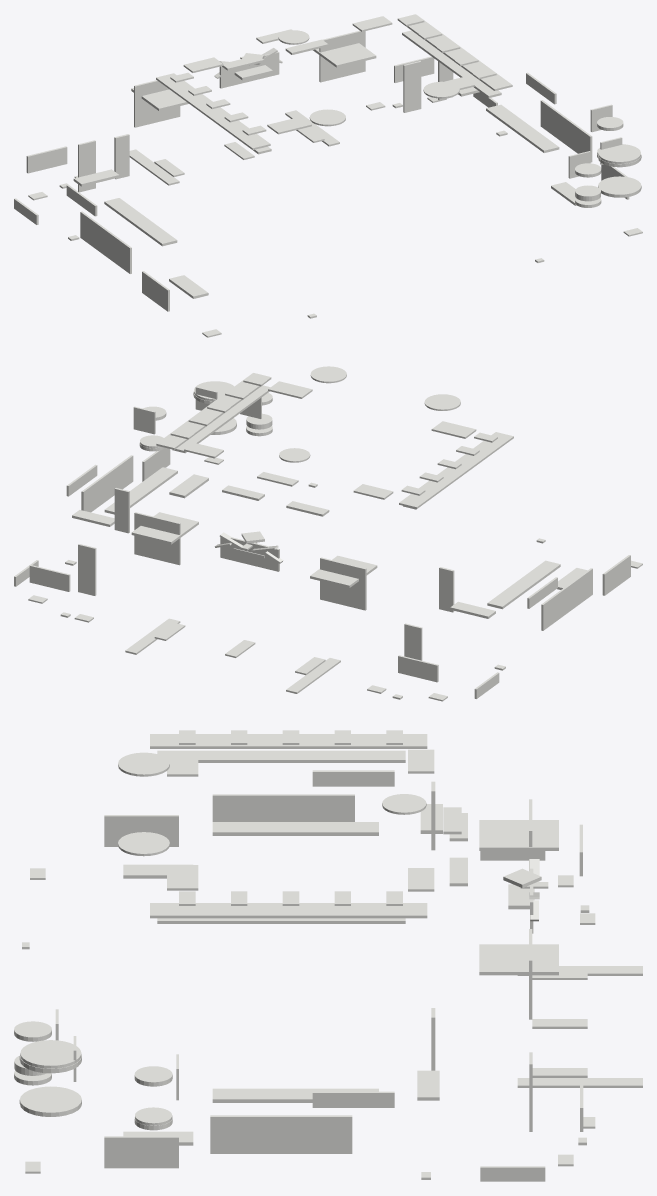
Rendered from Bastion_WarFactoryCMV2_TeamColorPanels.obj.
3 views of the same model, one above another, from view 1: azimuth 30°, elevation 25°; view 2: azimuth 150°, elevation 25°; view 3: azimuth 270°, elevation 25° (orthographic). The views are drawn at different scales.
Visible parts, largest first — view 1: v2_roof_long_white_spine_41, v2_left_side_long_mid_plate_39, v2_right_side_long_mid_plate_37, v2_roof_long_white_spine_42, v2_front_right_white_shoulder_31, v2_front_left_white_shoulder_30, side_long_team_plate_12, side_long_team_plate_10, long_roof_team_panel_20, v2_front_right_lower_white_panel_34, front_right_fascia_team_plate_3, v2_front_center_emblem_plate_32 (+12 smaller); view 2: v2_roof_long_white_spine_41, v2_front_left_white_shoulder_30, v2_front_right_white_shoulder_31, v2_left_side_long_mid_plate_39, v2_right_side_long_mid_plate_37, v2_roof_long_white_spine_42, side_long_team_plate_10, v2_front_center_emblem_plate_32, long_roof_team_panel_20, v2_front_right_lower_white_panel_34, front_right_fascia_team_plate_3, side_long_team_plate_12 (+14 smaller); view 3: v2_right_side_long_mid_plate_37, v2_roof_long_white_spine_42, v2_left_side_long_mid_plate_39, v2_roof_long_white_spine_41, long_roof_team_panel_19, v2_right_side_rear_angle_plate_38, front_right_fascia_team_plate_3, front_left_fascia_team_plate_2, side_long_team_plate_10, side_long_team_plate_12, v2_left_side_rear_angle_plate_40, final_stack_extra_team_band_68 (+18 smaller).
Part boxes in pixels (x1=…): v2_roof_long_white_spine_41: x1=156, y1=73, x2=270, y2=149; v2_left_side_long_mid_plate_39: x1=80, y1=211, x2=131, y2=273; v2_right_side_long_mid_plate_37: x1=540, y1=100, x2=592, y2=162; v2_roof_long_white_spine_42: x1=397, y1=14, x2=512, y2=90; v2_front_right_white_shoulder_31: x1=319, y1=30, x2=365, y2=82; v2_front_left_white_shoulder_30: x1=134, y1=80, x2=180, y2=127; side_long_team_plate_12: x1=486, y1=104, x2=559, y2=152; side_long_team_plate_10: x1=104, y1=198, x2=177, y2=246; long_roof_team_panel_20: x1=402, y1=30, x2=501, y2=97; v2_front_right_lower_white_panel_34: x1=403, y1=61, x2=421, y2=112; front_right_fascia_team_plate_3: x1=313, y1=43, x2=376, y2=67; v2_front_center_emblem_plate_32: x1=219, y1=52, x2=279, y2=88; v2_roof_long_white_spine_41: x1=399, y1=432, x2=513, y2=508; v2_front_left_white_shoulder_30: x1=320, y1=557, x2=366, y2=610; v2_front_right_white_shoulder_31: x1=134, y1=512, x2=180, y2=565; v2_left_side_long_mid_plate_39: x1=541, y1=568, x2=592, y2=630; v2_right_side_long_mid_plate_37: x1=81, y1=455, x2=133, y2=512; v2_roof_long_white_spine_42: x1=156, y1=373, x2=271, y2=449; side_long_team_plate_10: x1=487, y1=560, x2=560, y2=609; v2_front_center_emblem_plate_32: x1=220, y1=537, x2=279, y2=571; long_roof_team_panel_20: x1=172, y1=385, x2=270, y2=453; v2_front_right_lower_white_panel_34: x1=78, y1=544, x2=96, y2=595; front_right_fascia_team_plate_3: x1=131, y1=512, x2=198, y2=544; side_long_team_plate_12: x1=104, y1=467, x2=177, y2=514; v2_right_side_long_mid_plate_37: x1=210, y1=1115, x2=352, y2=1153; v2_roof_long_white_spine_42: x1=150, y1=903, x2=427, y2=918; v2_left_side_long_mid_plate_39: x1=212, y1=794, x2=354, y2=821; v2_roof_long_white_spine_41: x1=150, y1=734, x2=427, y2=748; long_roof_team_panel_19: x1=157, y1=750, x2=405, y2=762; v2_right_side_rear_angle_plate_38: x1=104, y1=1136, x2=178, y2=1168; front_right_fascia_team_plate_3: x1=479, y1=944, x2=558, y2=975; front_left_fascia_team_plate_2: x1=479, y1=820, x2=558, y2=850; side_long_team_plate_10: x1=212, y1=822, x2=378, y2=835; side_long_team_plate_12: x1=212, y1=1088, x2=378, y2=1102; v2_left_side_rear_angle_plate_40: x1=104, y1=815, x2=178, y2=846; final_stack_extra_team_band_68: x1=19, y1=1086, x2=81, y2=1116.
Size of the model in its own units: 16.16 by 5.15 by 13.05.
1 material, 1 textured.
